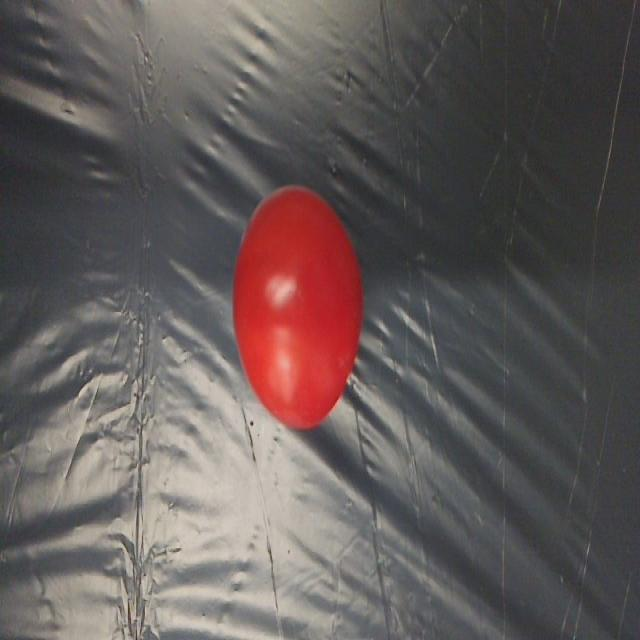kirmizi: (222, 175, 377, 459)
